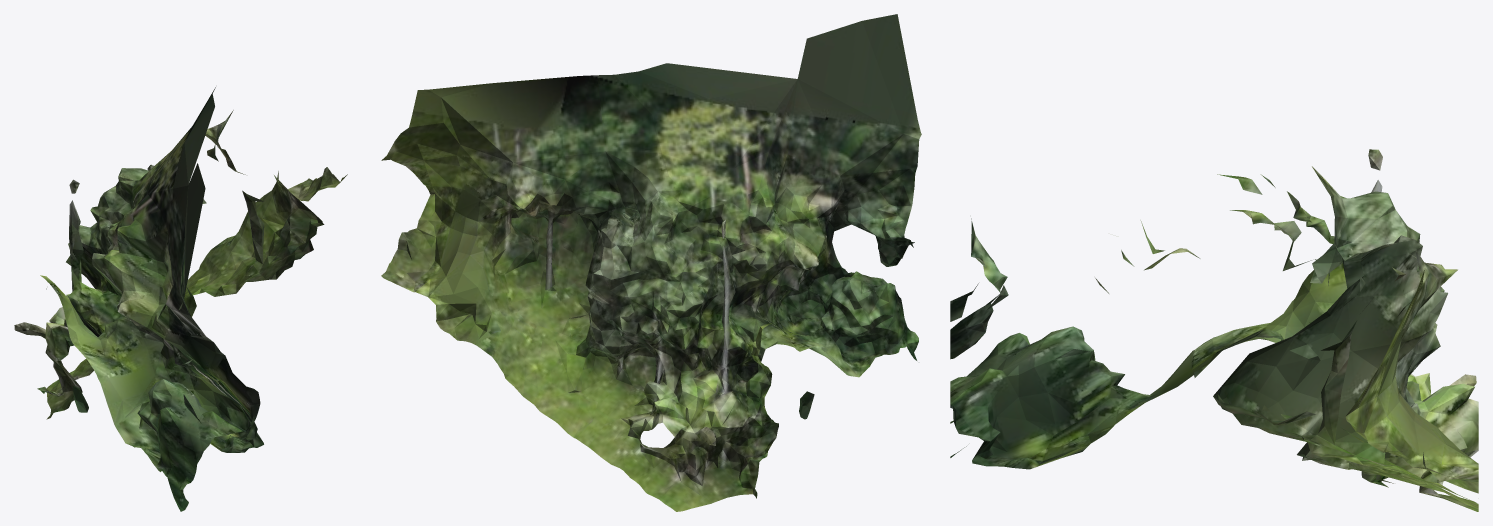
3 views of the same model, side by side, from view 1: azimuth 30°, elevation 25°; view 2: azimuth 150°, elevation 25°; view 3: azimuth 270°, elevation 25° (orthographic). The views are drawn at different scales.
Bounding box in the file's own units: 26.11 × 26.11 × 26.11.
5 materials, 5 textured.
